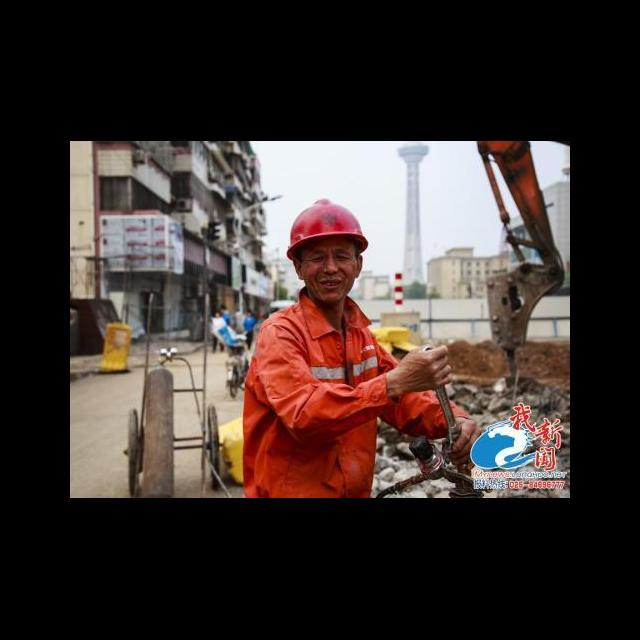Excavator: (475, 142, 570, 355)
Hardhat: (287, 200, 368, 258)
NO-Hardhat: (221, 306, 226, 310), (246, 311, 251, 314), (216, 311, 220, 314)
NO-Mask: (305, 271, 351, 301)
NO-Safety Vest: (243, 310, 255, 349), (235, 314, 244, 327), (212, 318, 221, 329), (245, 319, 253, 331), (224, 314, 230, 325)
Person: (237, 197, 481, 498), (210, 310, 224, 353), (232, 308, 245, 333), (220, 306, 231, 327)
Safety Vest: (241, 287, 382, 498)
